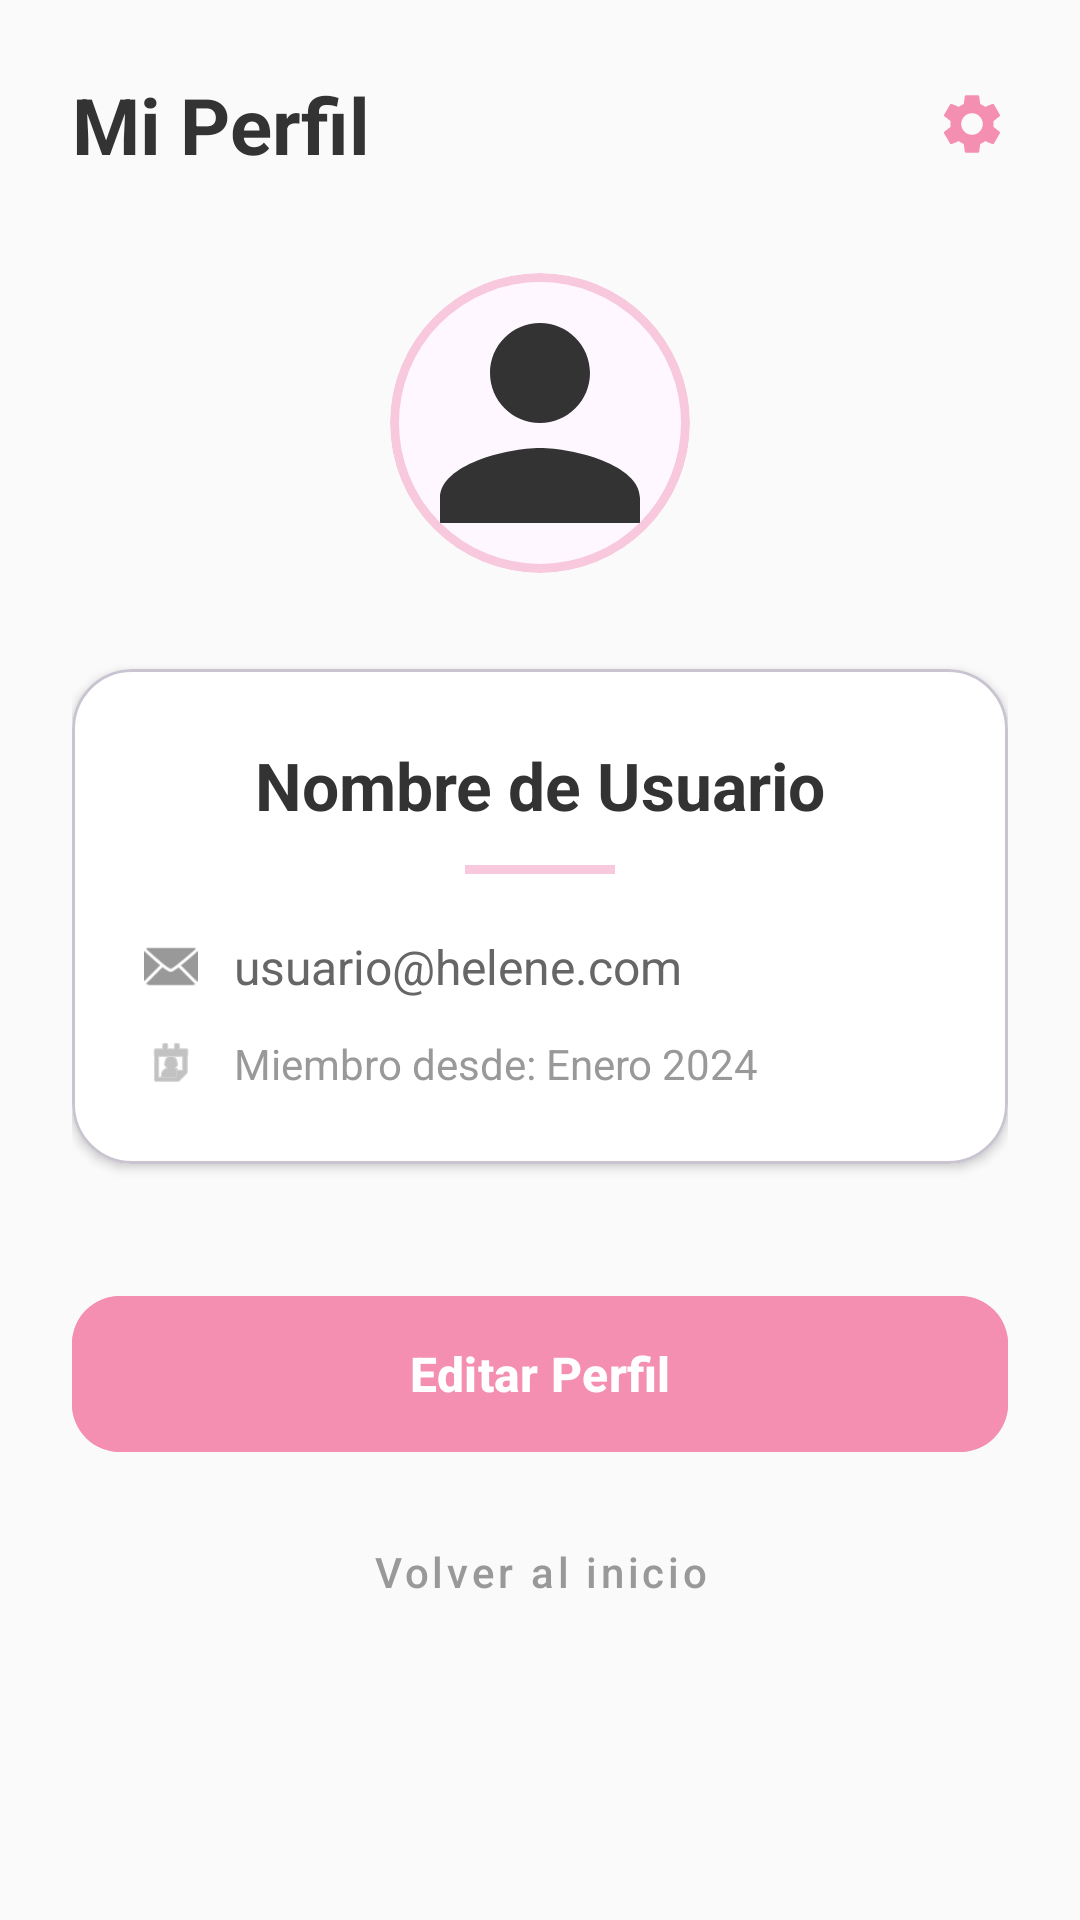

Locate icon controls on the screen. Image size 1080px×1920px, boxes as detection(x1, y1, x2, y2).
calendar: detection(154, 1043, 188, 1082)
email: detection(144, 948, 198, 986)
profile: detection(390, 273, 690, 573)
settings: detection(944, 95, 1000, 153)
